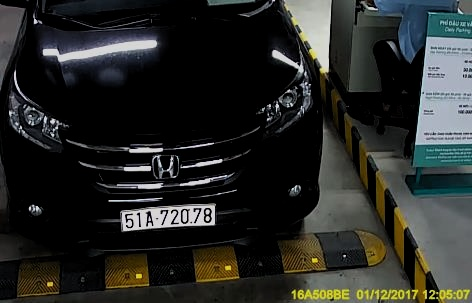plate: (120, 202, 215, 232)
